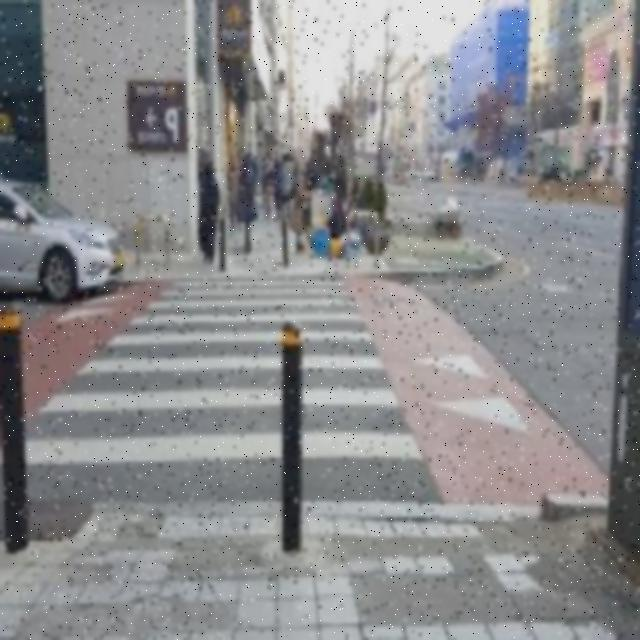Pedestrian crosswalk: (15, 278, 441, 516)
